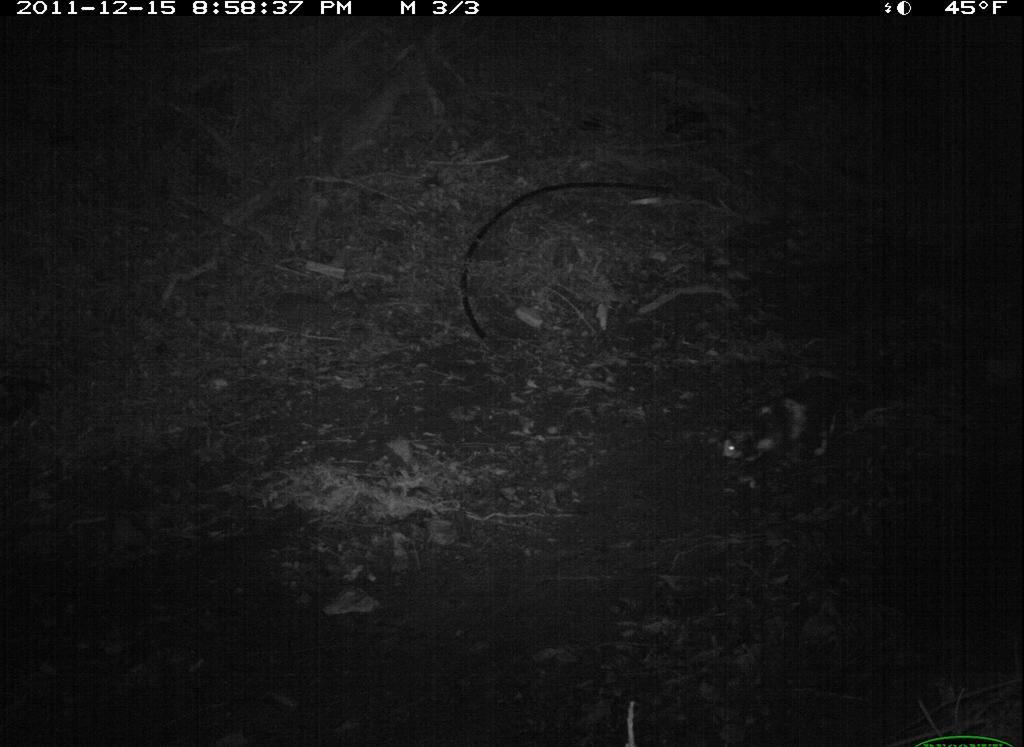cat: (699, 358, 863, 491)
